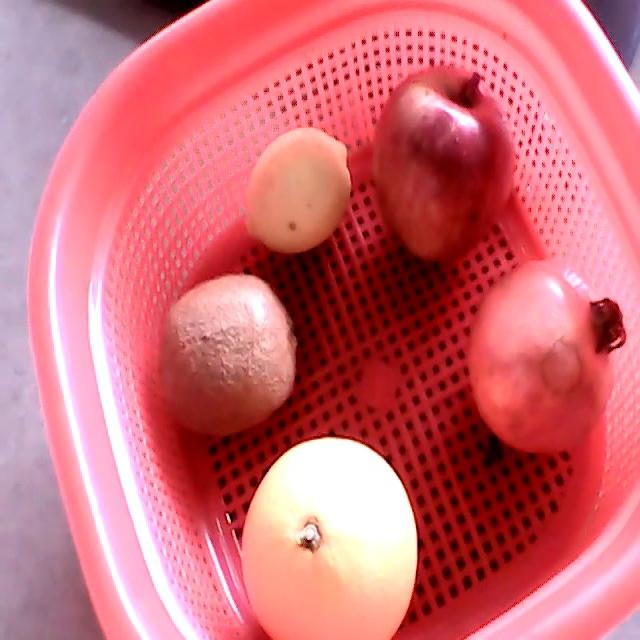apple: (374, 66, 516, 261)
kiwi: (157, 273, 297, 438)
lemon: (246, 125, 352, 252)
orange: (242, 434, 418, 639)
pomegranate: (466, 260, 626, 456)
